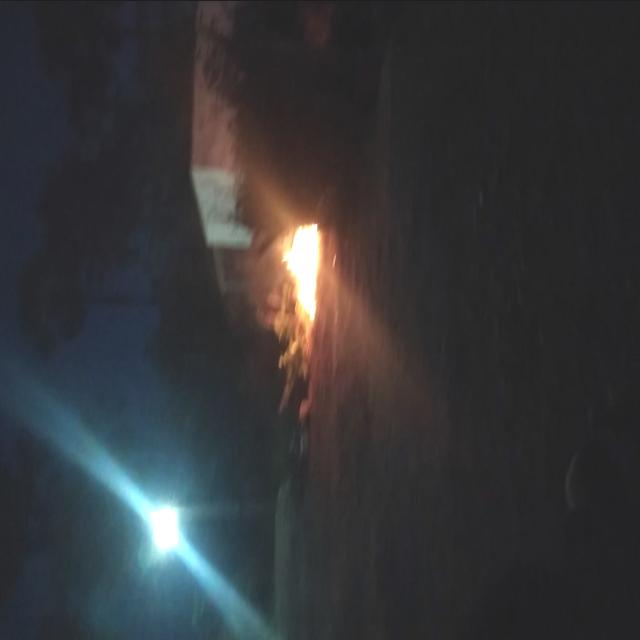firerotation: (275, 215, 322, 324)
